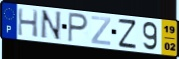9: (142, 21, 158, 51)
H: (17, 8, 39, 39)
N: (39, 9, 63, 42)
P: (67, 12, 90, 45)
Z: (90, 15, 112, 47), (117, 18, 138, 50)
